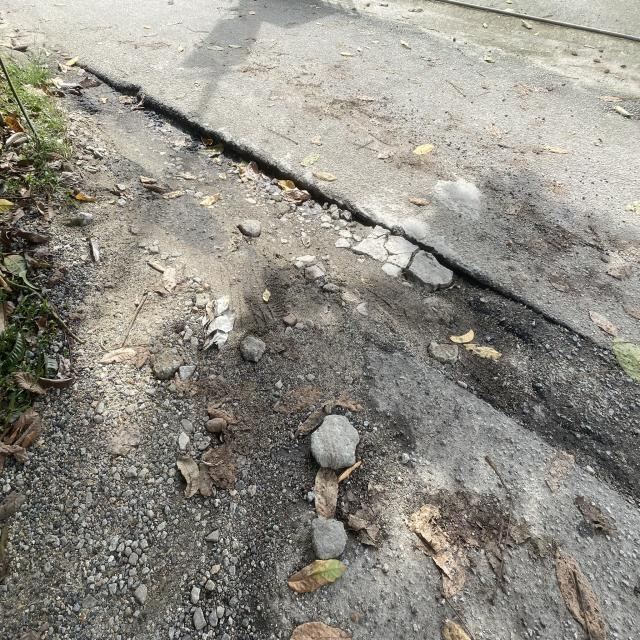pothole: (90, 57, 555, 332)
